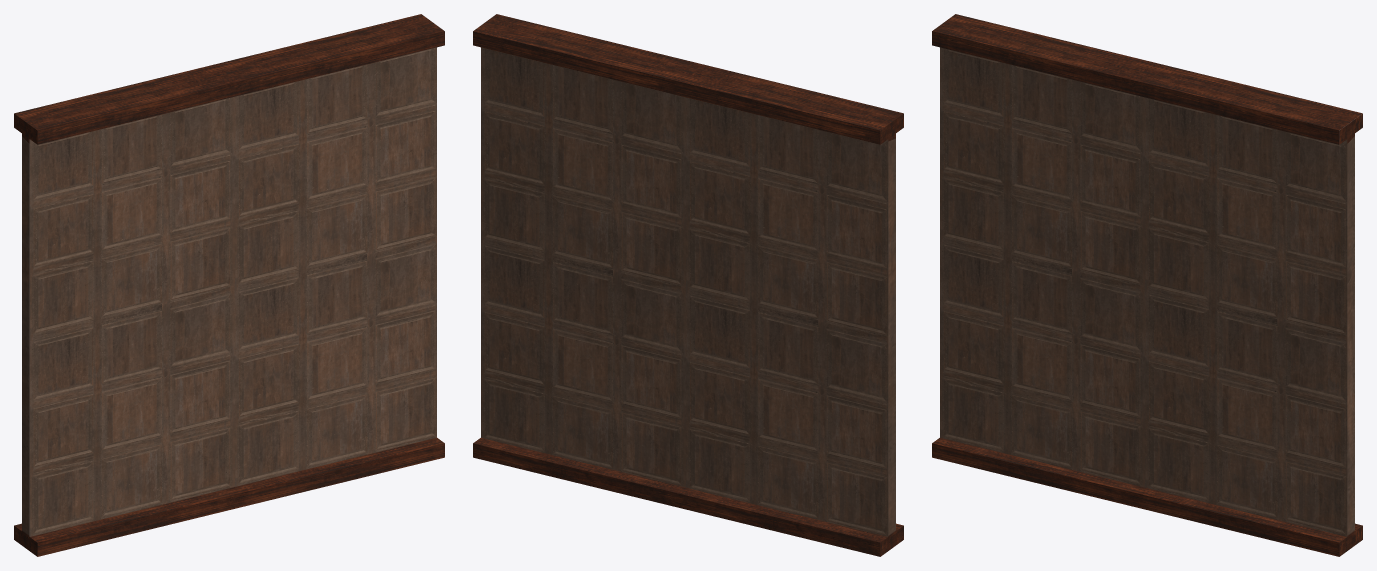
File: NEW_WALLS_STRAIGHT.fbx
The picture shows the model from 3 angles, left to right: view 1: azimuth 30°, elevation 25°; view 2: azimuth 150°, elevation 25°; view 3: azimuth 330°, elevation 25°; orthographic projection.
Parts seen in each view (by area): view 1: CORNER2_sy; view 2: CORNER2_sy; view 3: CORNER2_sy.
Boxes of the visible parts, <box> form: CORNER2_sy: <box>14,14,444,556</box>; CORNER2_sy: <box>473,14,903,556</box>; CORNER2_sy: <box>932,14,1362,556</box>.
Size of the model in its own units: 300 by 300 by 30.
